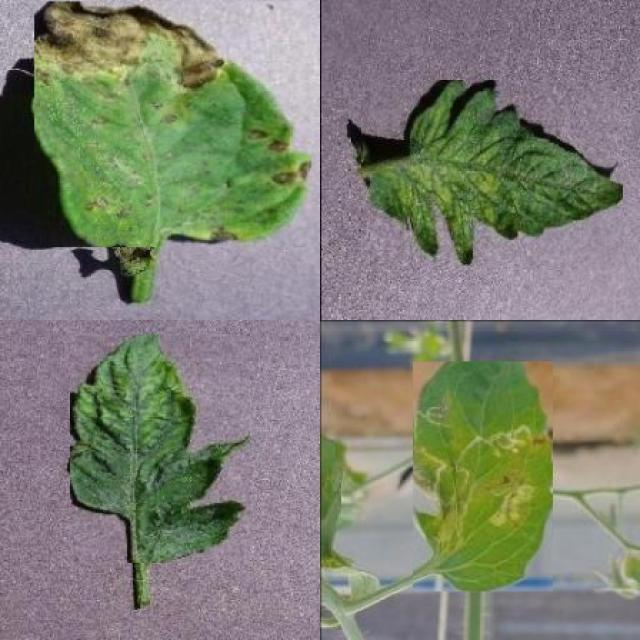Leaf Miner: (413, 362, 553, 592)
Mosaic Virus: (364, 80, 624, 266), (70, 334, 250, 562)
Septoria: (35, 2, 311, 248)
